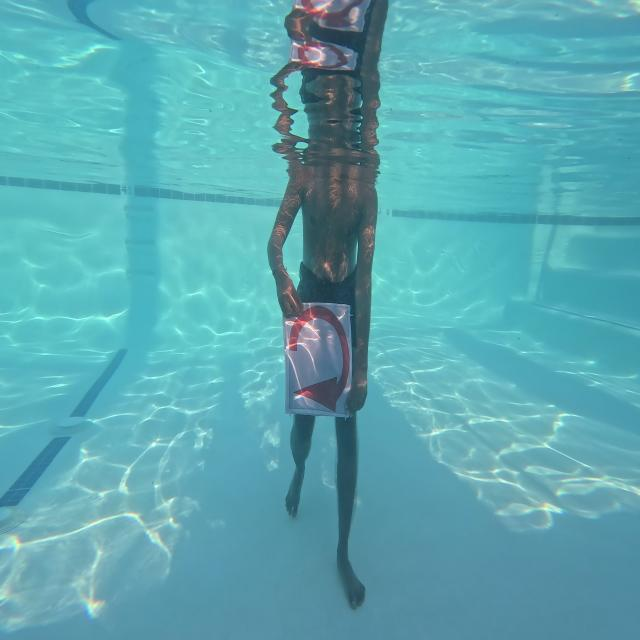red_side: (286, 302, 354, 417)
